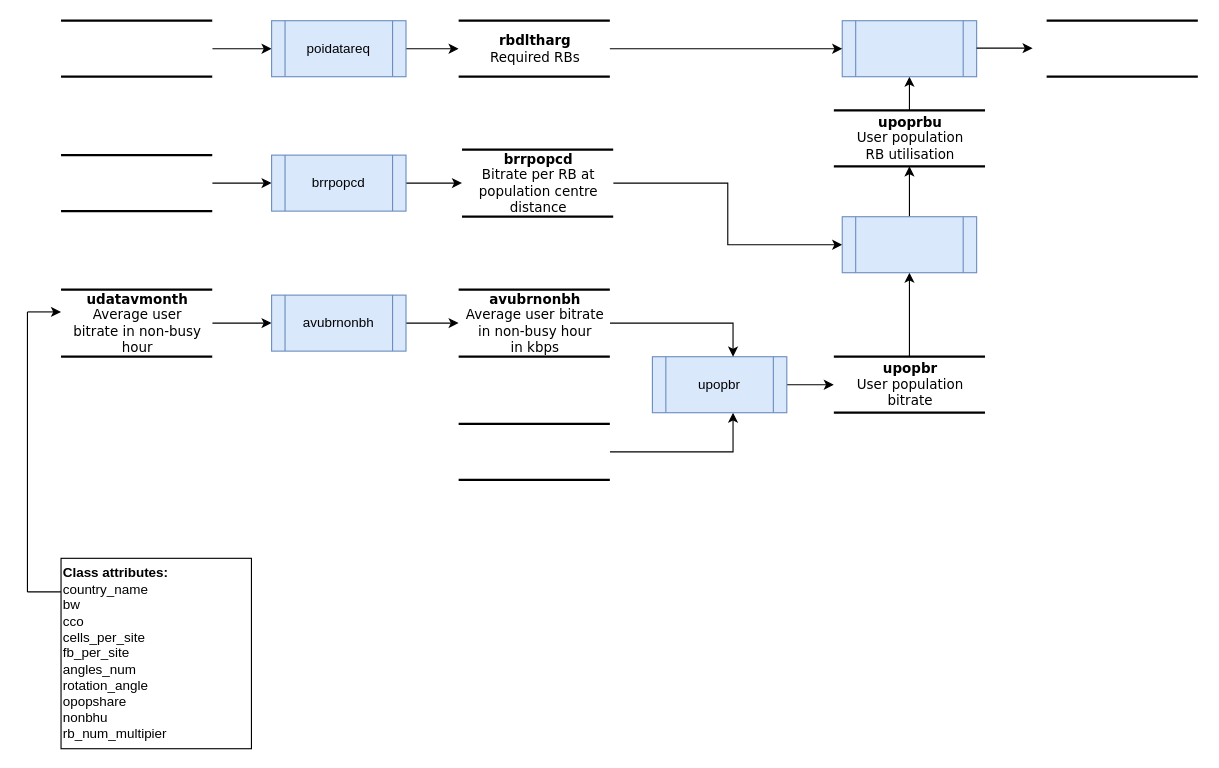
Some shapes in this 1219 by 768 pixel diagram are drawn without their labels. The shapes that lost their labels are listed below. From the top down, each one's centre as x and y in pixels, then its label:
At point 136,48: "d Distance to tower".
At point 909,48: "sufcapcheck".
At point 1121,48: "sufcapcheck Sufficient capacity (TRUE/FALSE)".
At point 136,182: "popcd Population centre distance".
At point 909,244: "upoprbu".
At point 533,451: "pop Population number".
